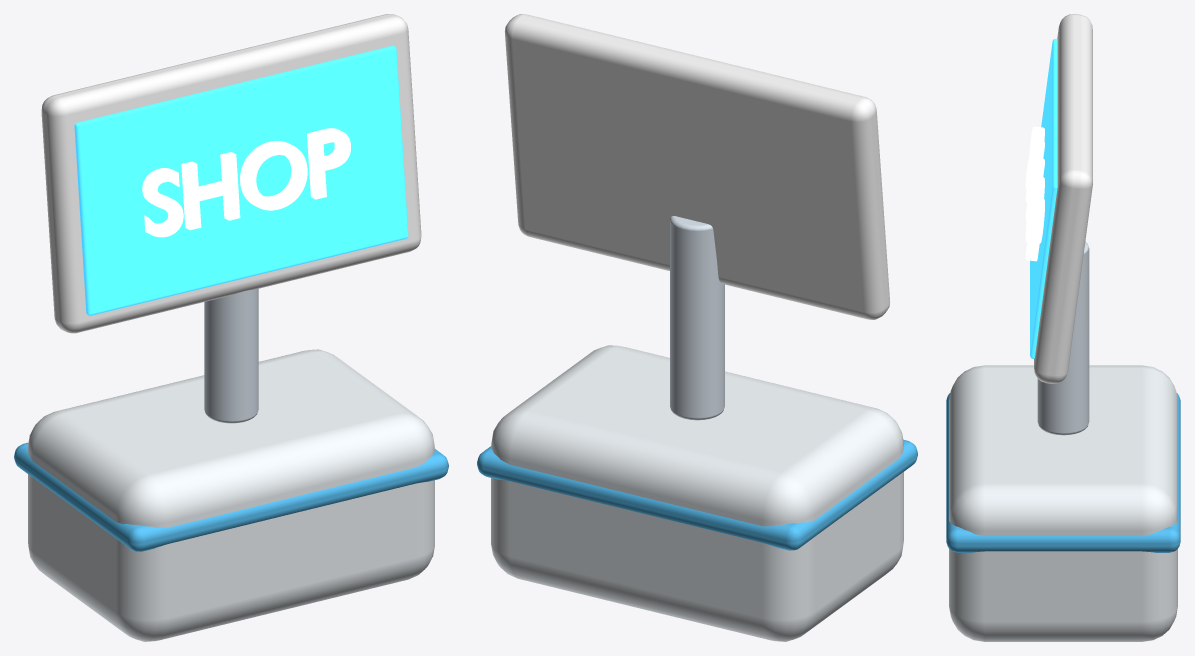
The model's file is shop.glb.
3 renders of one model, left to right at view 1: azimuth 30°, elevation 25°; view 2: azimuth 150°, elevation 25°; view 3: azimuth 270°, elevation 25°, orthographic. The views are drawn at different scales.
Parts seen in each view (by area): view 1: Shop, Screen, Text; view 2: Shop; view 3: Shop, Screen, Text.
Boxes of the visible parts, x1,y1,x2,y2 form: Shop: [14, 14, 448, 641]; Screen: [74, 45, 408, 315]; Text: [142, 128, 350, 237]; Shop: [477, 14, 917, 641]; Shop: [946, 14, 1180, 641]; Screen: [1030, 39, 1057, 358]; Text: [1025, 126, 1044, 261].
Bounding box in the file's own units: 2.75 × 3.77 × 1.64.
